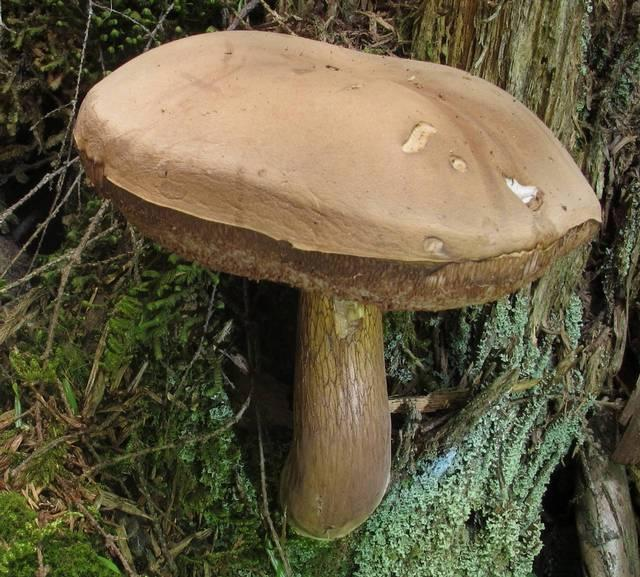Non-edible Mushroom: (71, 27, 604, 542)
